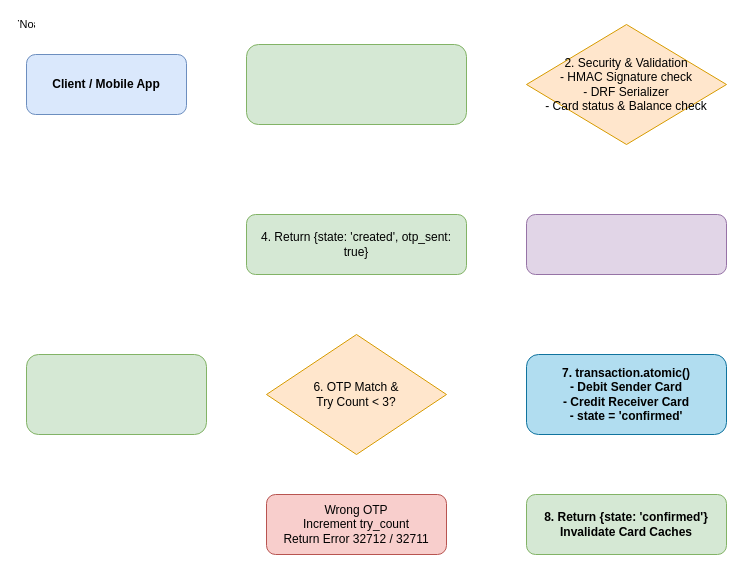
Some shapes in this 744 by 572 pixel diagram are drawn without their labels. The box of each missing label's shape, as (x1, y1, x2, y2) in pixels:
1. POST /rpc/ method: transfer.create (ext_id, cards, amount, currency): (246, 44, 466, 124)
3. Generate 6-digit OTP Send via Telegram Bot: (526, 214, 726, 274)
5. POST /rpc/ method: transfer.confirm (ext_id, otp): (26, 354, 206, 434)
